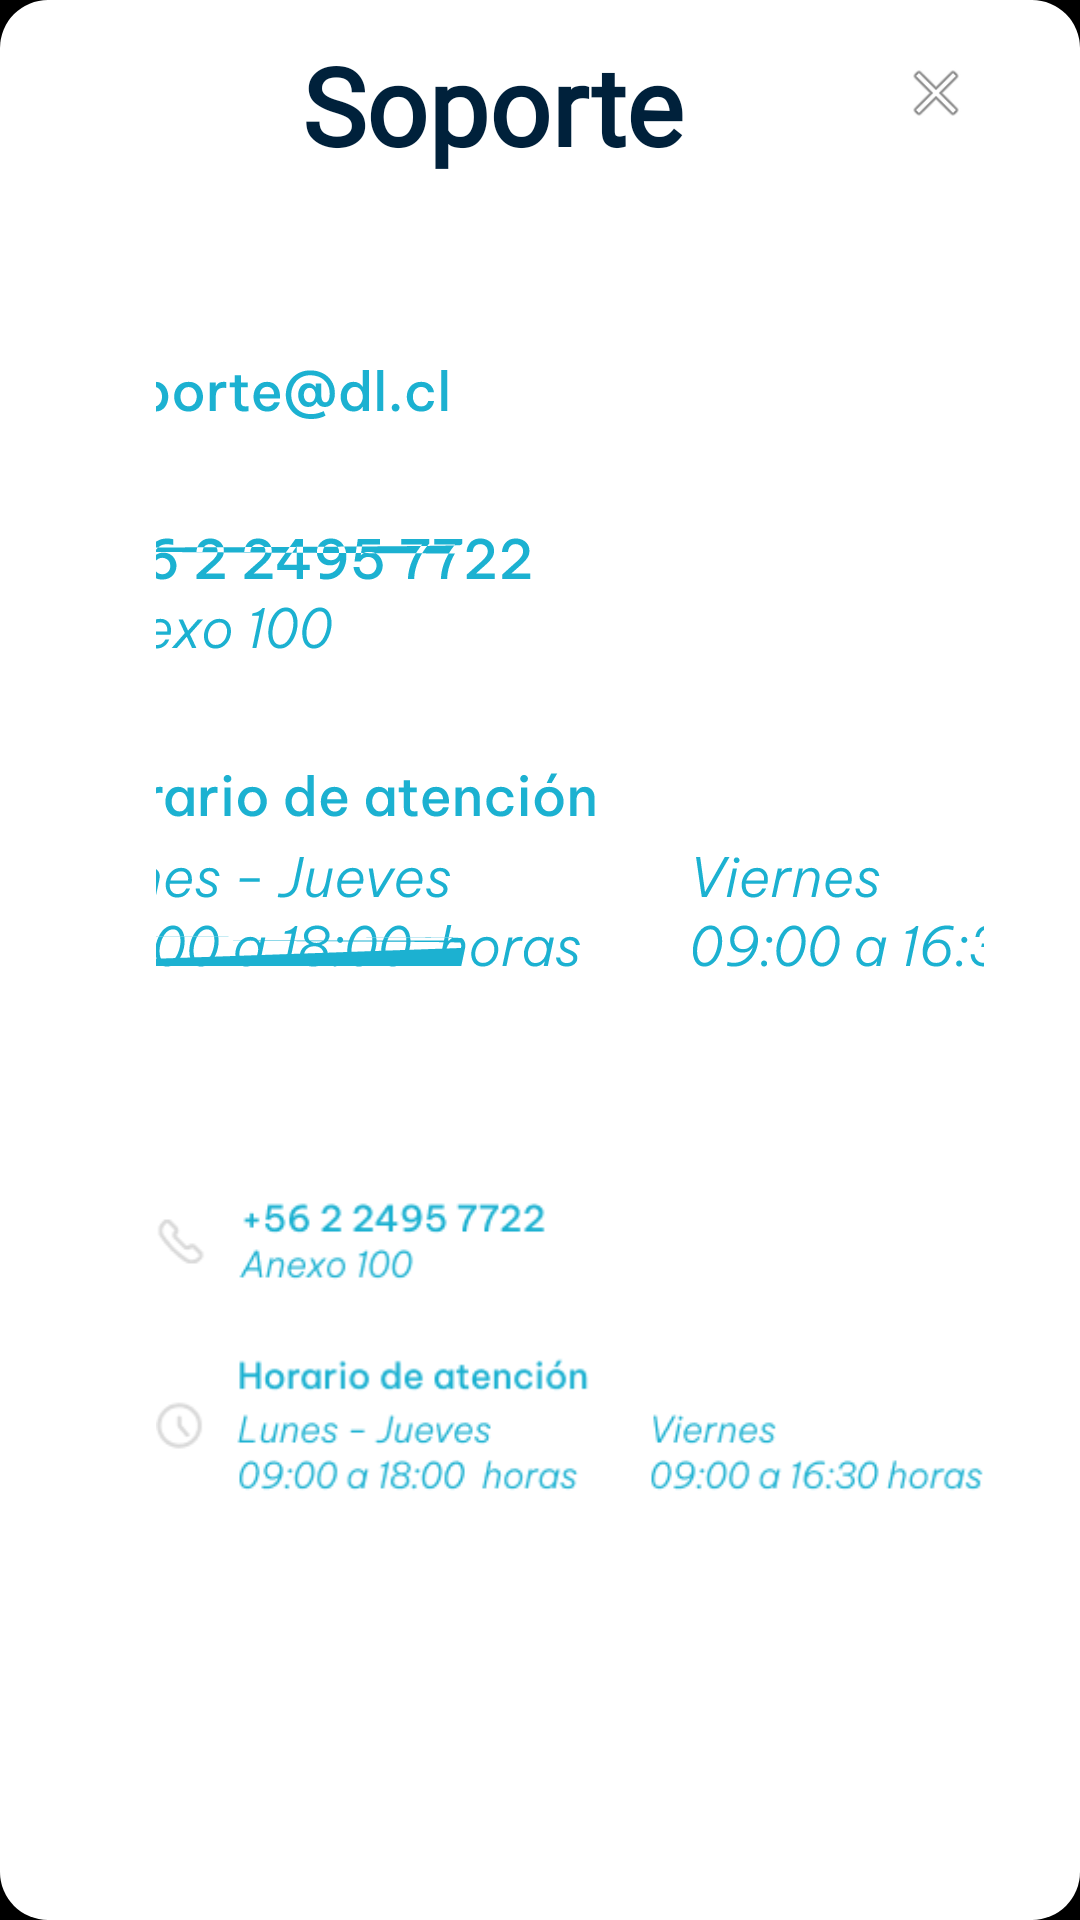

Named icons in this screenshot (1080px x 1920px) and their centers, (x=x, y=y):
Cerrar: (x=936, y=93)
